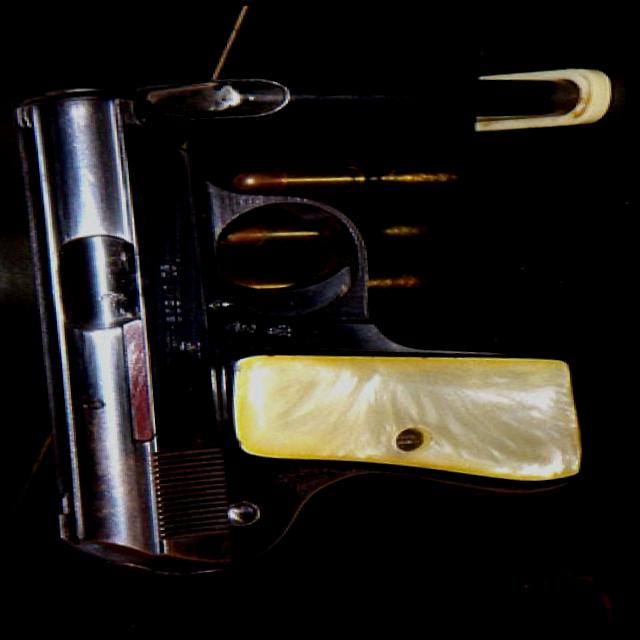handgun: (11, 54, 576, 576)
